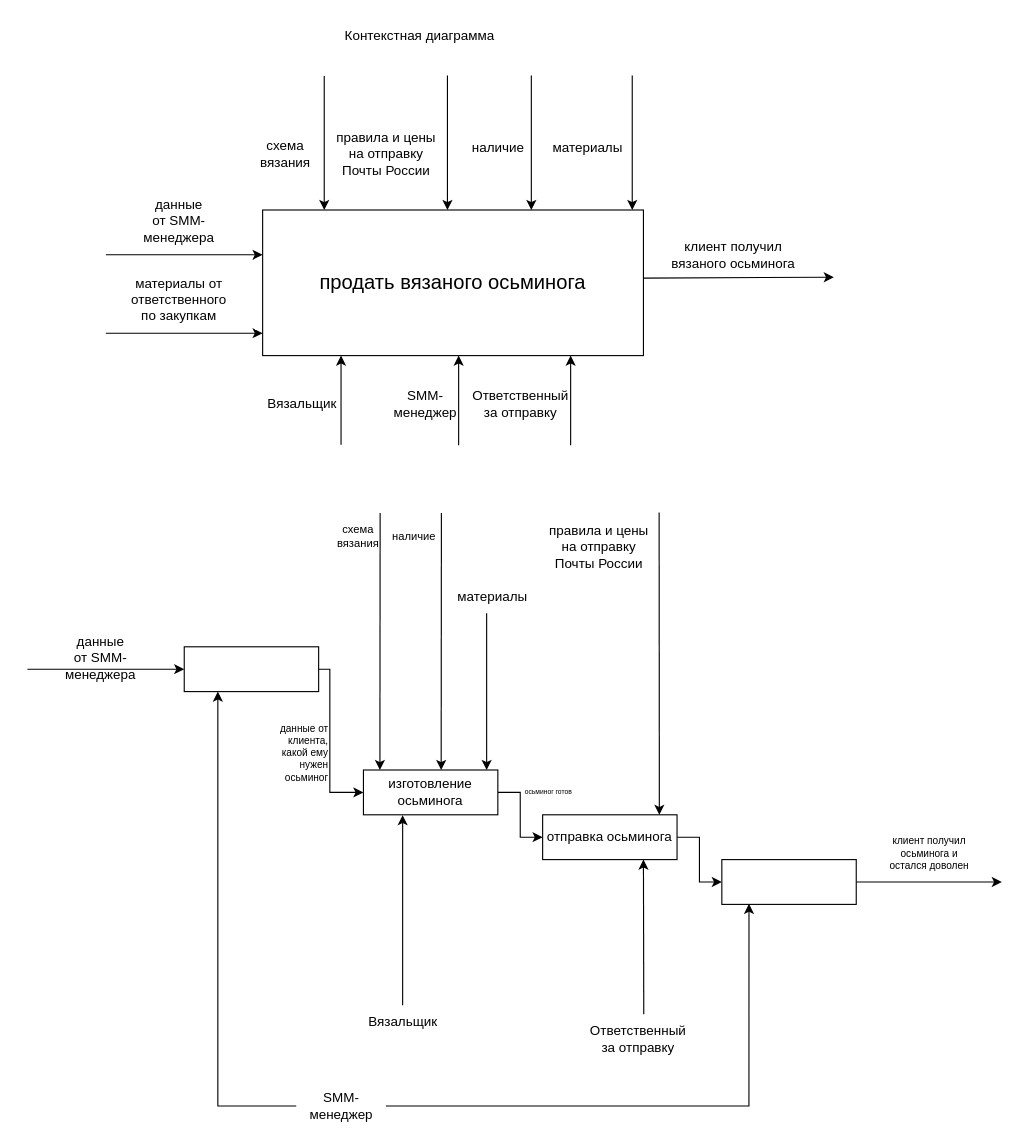
Some shapes in this 1030 by 1147 pixel diagram are drawn without their labels. The shapes that lost their labels are listed below. From the top down, each one's centre as x and y in pixels, then its label:
At (x=251, y=669): "получение заказа на осьминога".
At (x=788, y=881): "получение фидбека об осьминоге".
